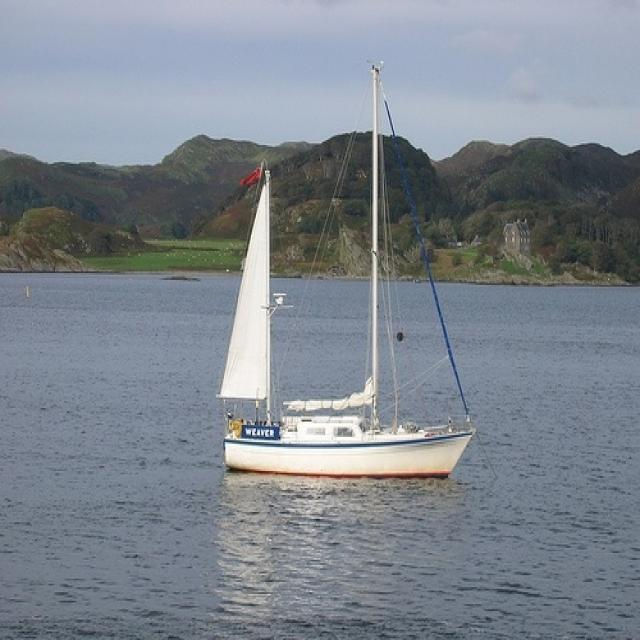Ship: (213, 68, 484, 486)
